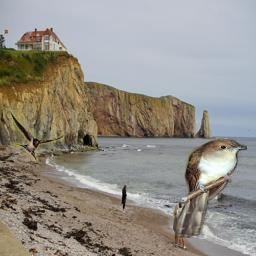Cuckoo: (175, 138, 247, 238)
Swallow: (10, 110, 64, 163)
